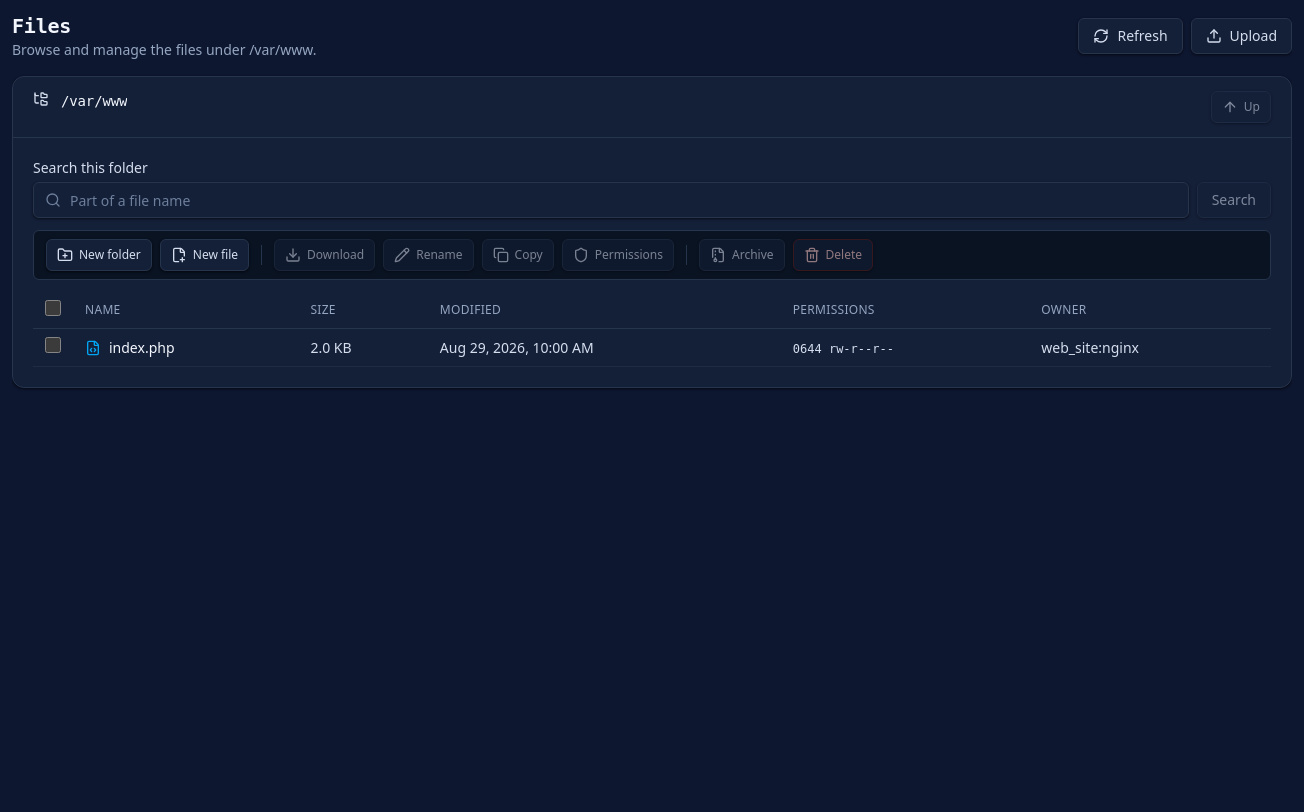
Scenario: FilesPage file actions › closes the menu on Escape
Click the button "index.php" at (142, 348), box [109,338,174,358]
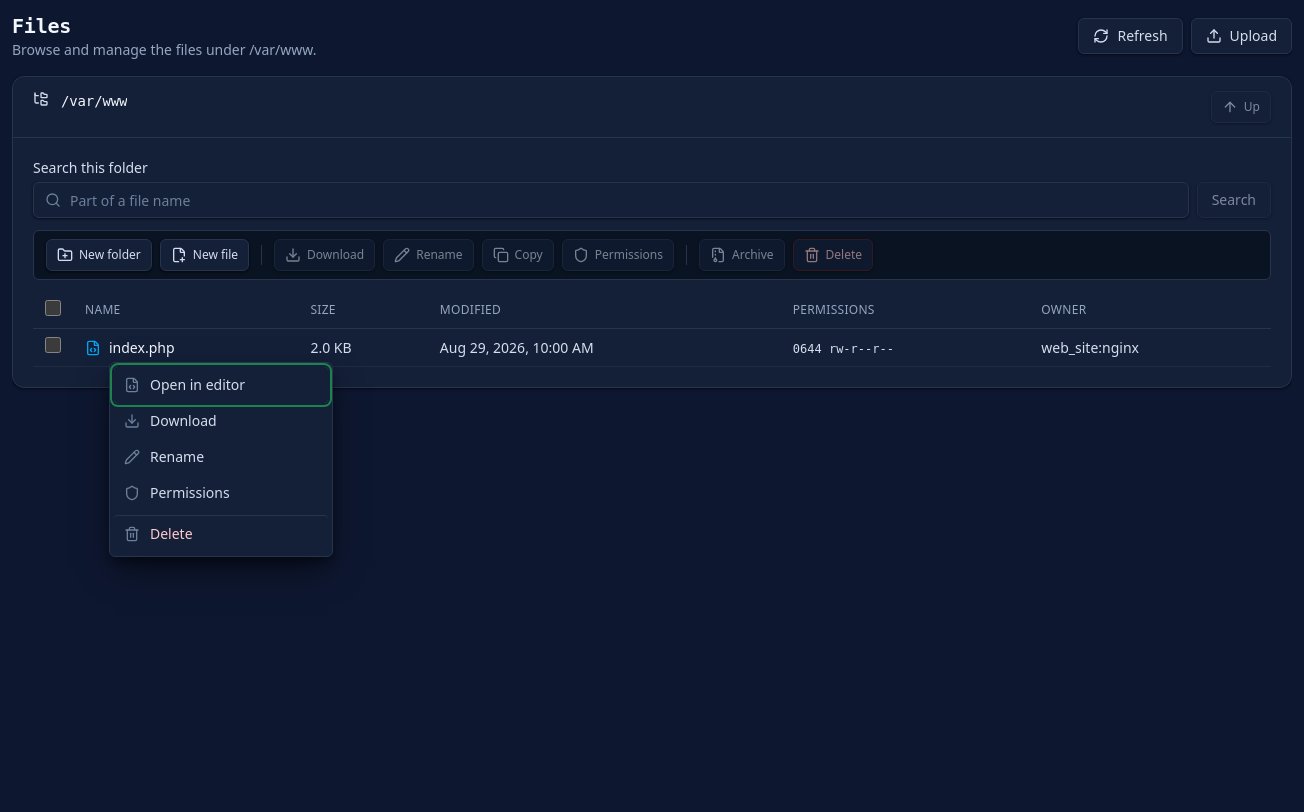
Now the menu is shown, box [109,362,333,556]
Press Escape
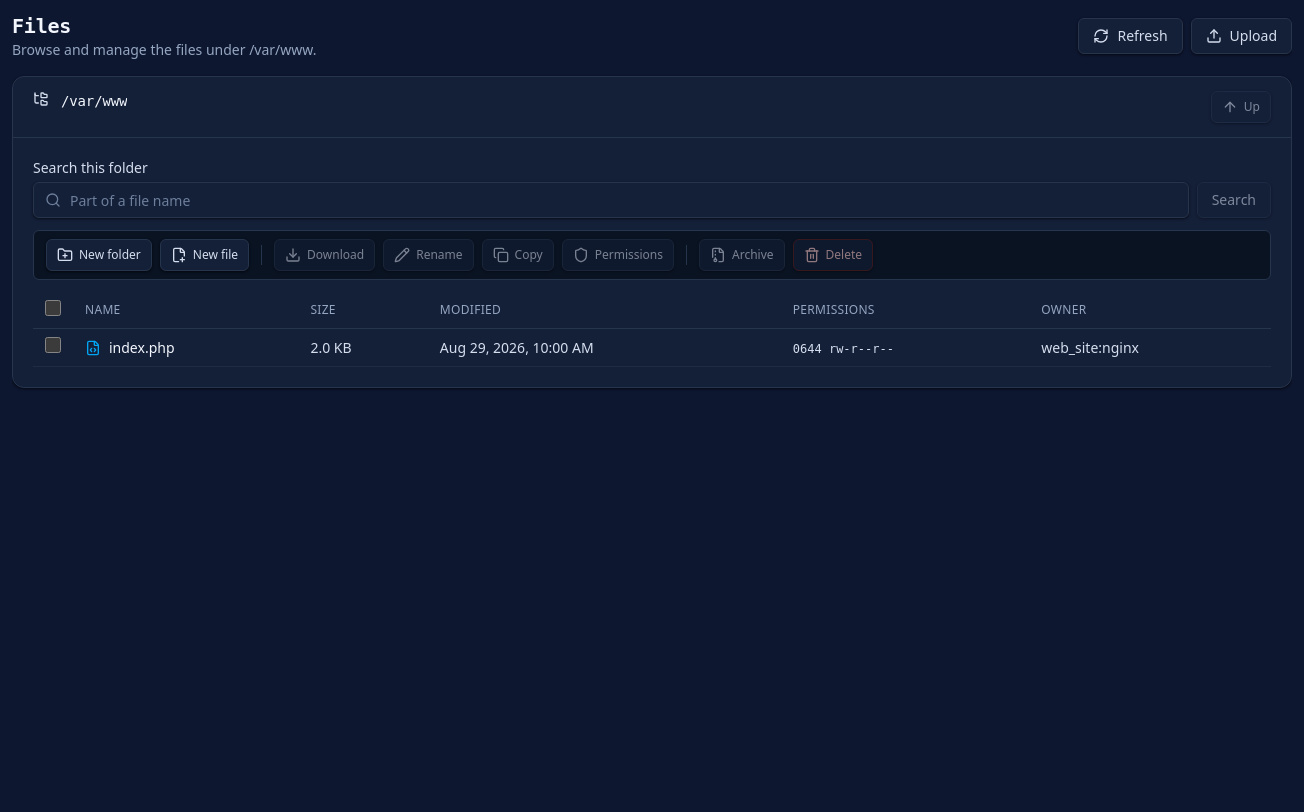
Now the menu is gone
